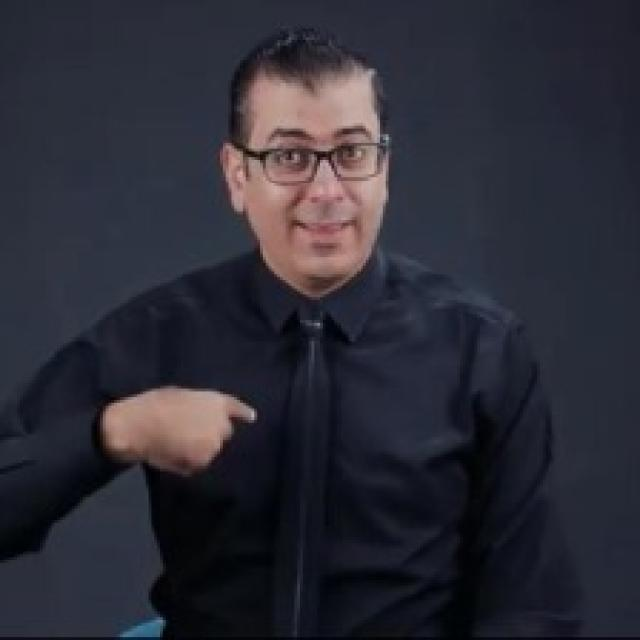me: (108, 380, 263, 478)
